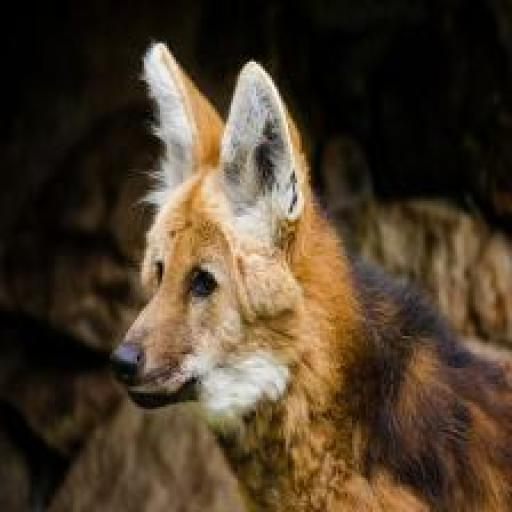wolf: (105, 39, 511, 512)
